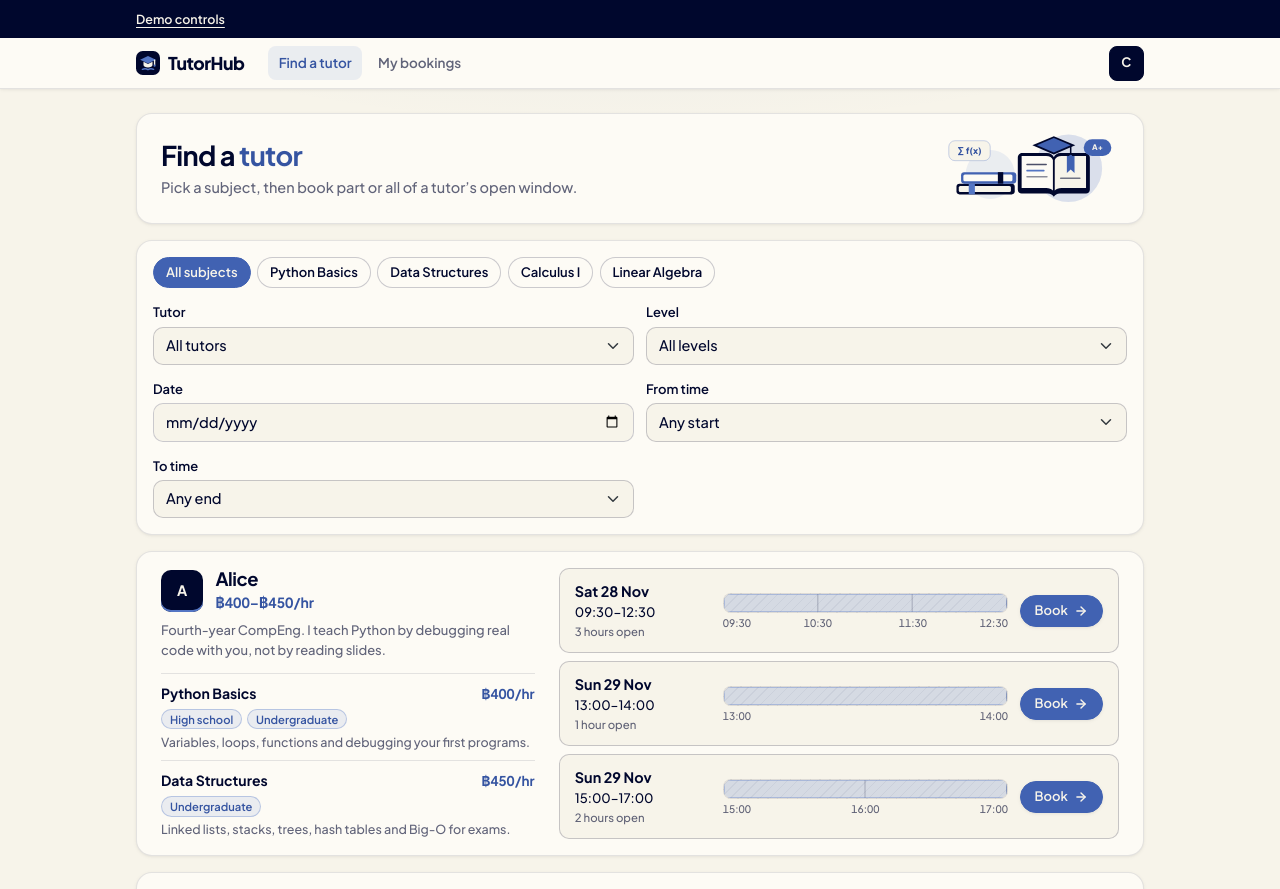
Test: booking modal slot picker, subject pricing and files › picks a start hour on the ruler, stretches the lesson by tapping a later hour, and applies the 5% bundle discount (STS-L7-07)
This screenshot has width=1280, height=889.
Click the button with aria-label "Book Alice on" at (1061, 611), box [1020,595,1103,627]
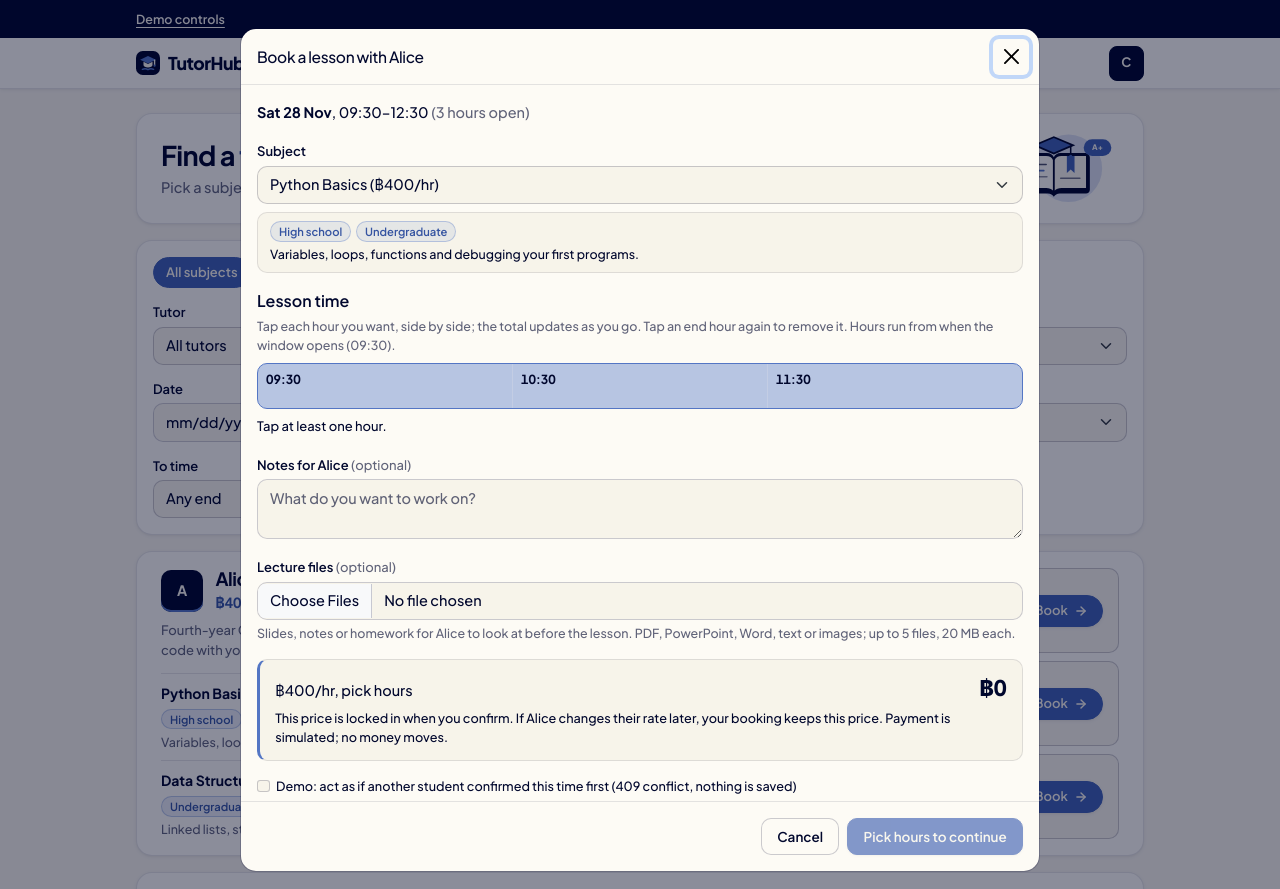
Click the button named "10:30–11:30" at (640, 386), box [513,364,767,408]
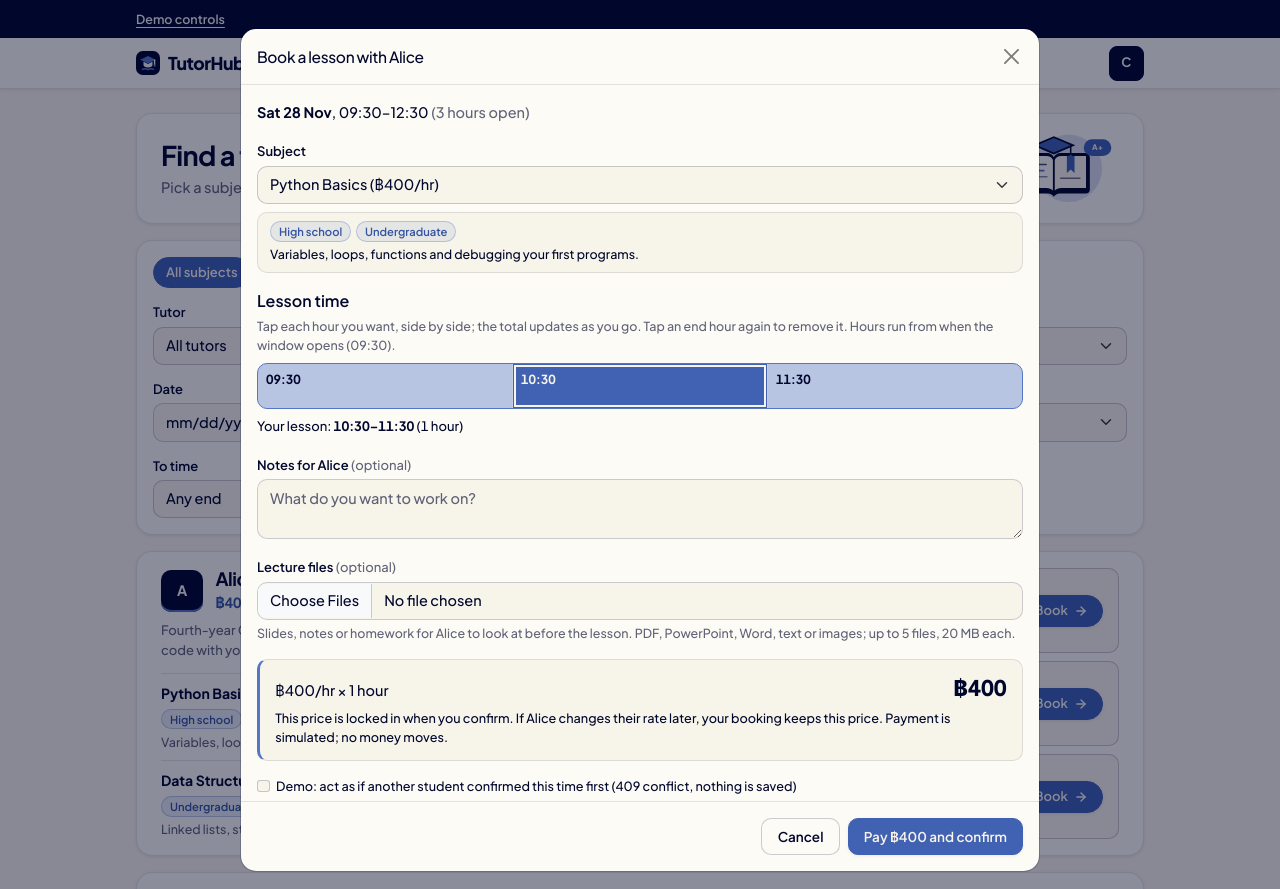
Click the button named "11:30–12:30" at (895, 386), box [768,364,1022,408]
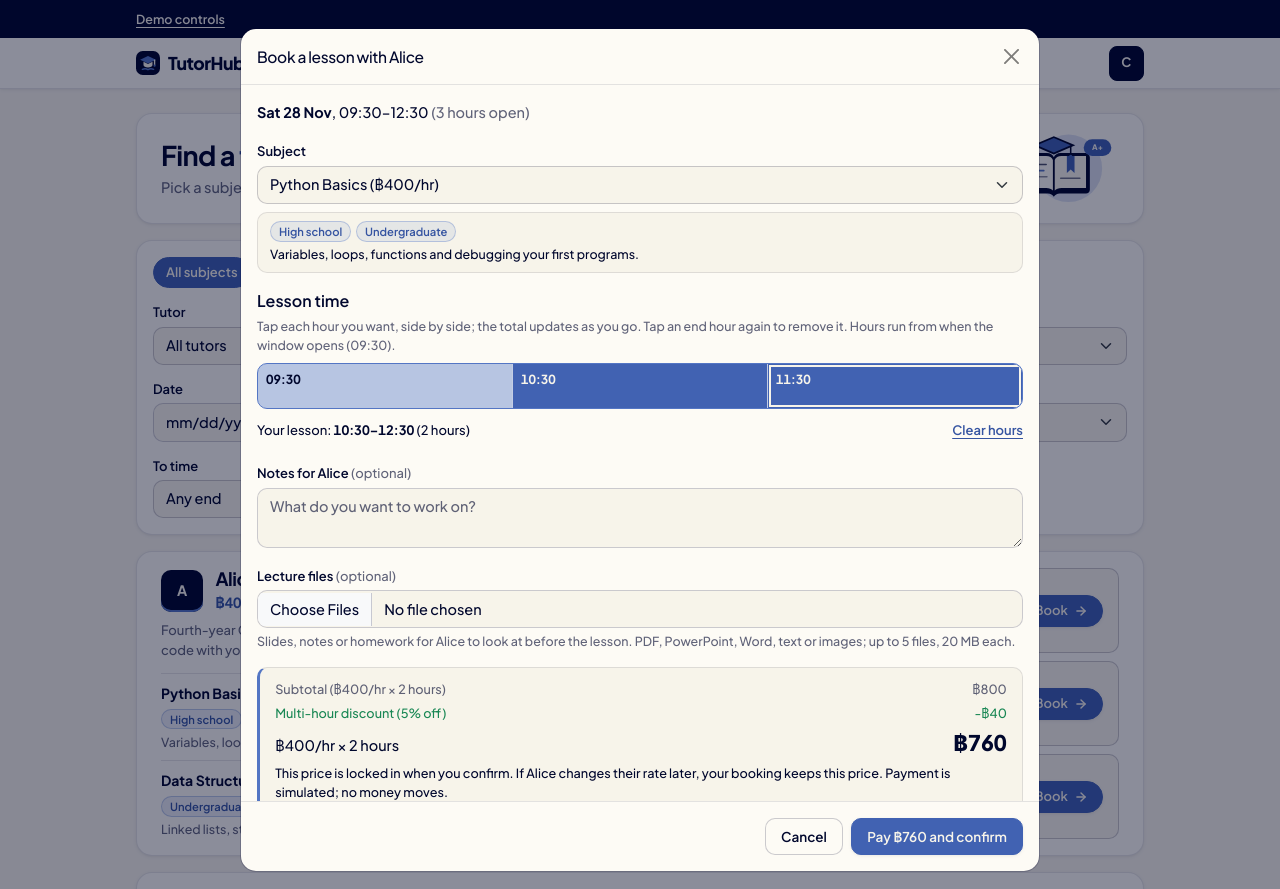
Result: the text "Multi-hour discount (5% off)" is shown at [275,704,446,723]
Result: the button "Pay ฿760 and confirm" is shown at [851,818,1023,855]
